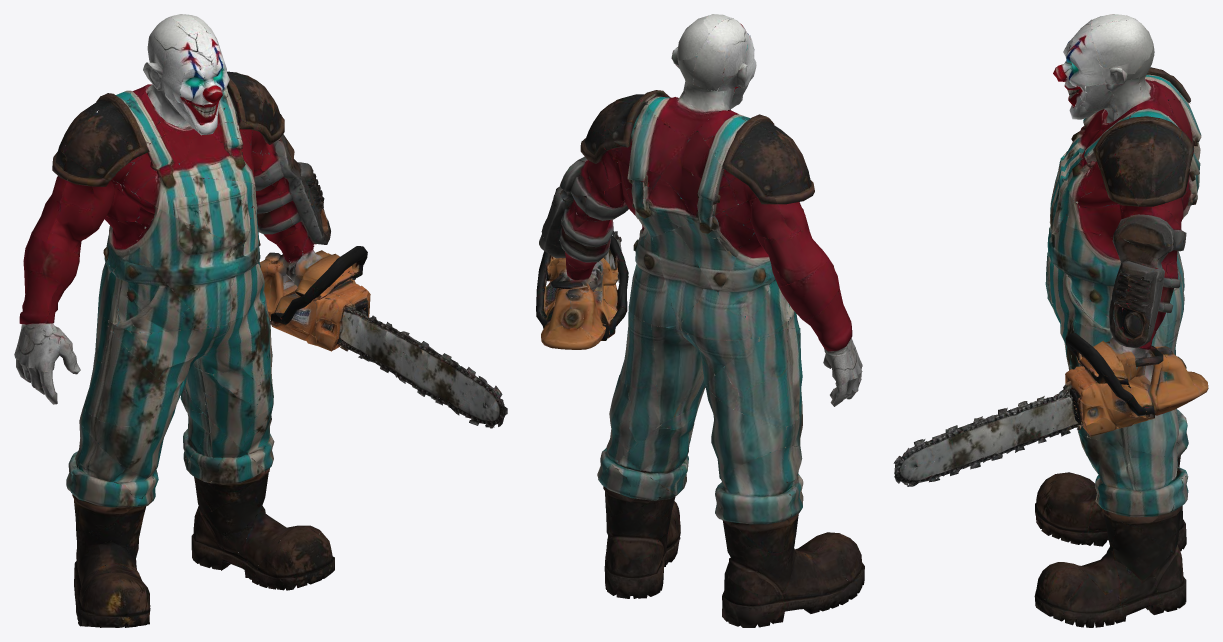
File: 01_chainsaw_clown.glb
The picture shows the model from 3 angles, left to right: view 1: azimuth 30°, elevation 25°; view 2: azimuth 150°, elevation 25°; view 3: azimuth 270°, elevation 25°; orthographic projection. The views are drawn at different scales.
Visible parts, largest first — view 1: mesh_node; view 2: mesh_node; view 3: mesh_node.
Part boxes in pixels (box(x1,y1,x2,y2)): mesh_node: box(14, 14, 507, 627); mesh_node: box(536, 14, 864, 627); mesh_node: box(893, 14, 1208, 627).
Bounding box in the file's own units: 1.28 × 1.91 × 0.9769.
Materials: 1 (1 with a texture image).
